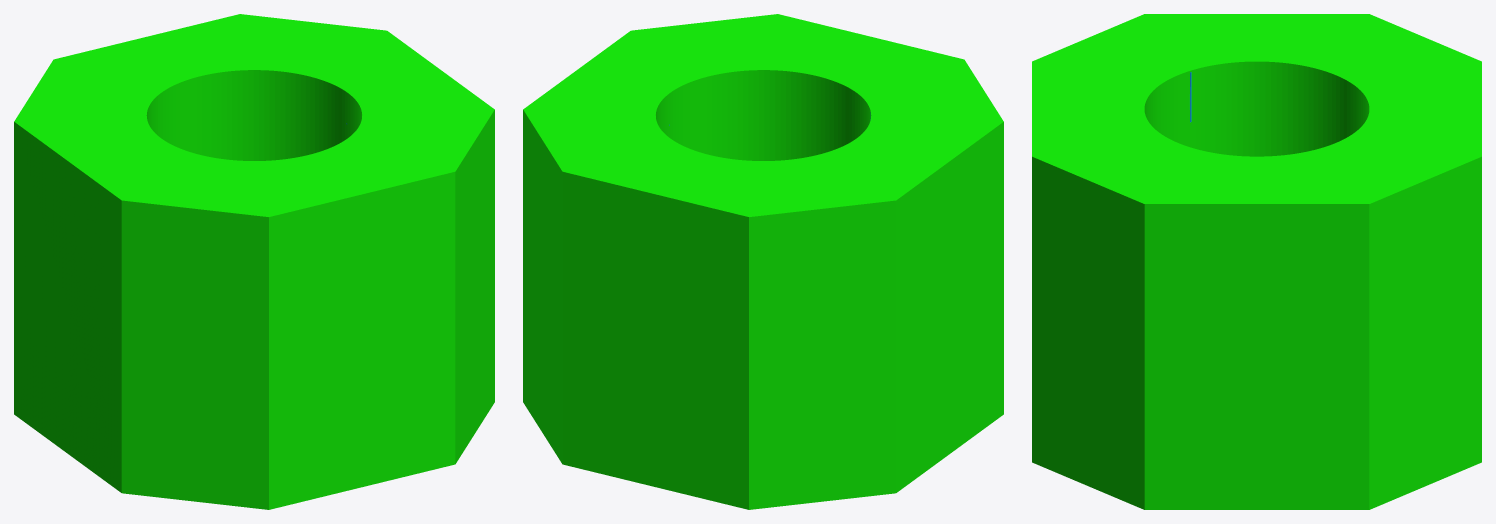
Rendered from nut.dae.
3 views of the same model, side by side, from view 1: azimuth 30°, elevation 25°; view 2: azimuth 150°, elevation 25°; view 3: azimuth 270°, elevation 25° (orthographic). The views are drawn at different scales.
Visible parts, largest first — view 1: Tuerca Cad; view 2: Tuerca Cad; view 3: Tuerca Cad.
Boxes of the visible parts, x1,y1,x2,y2 form: Tuerca Cad: [14, 14, 494, 509]; Tuerca Cad: [523, 14, 1003, 509]; Tuerca Cad: [1032, 14, 1481, 509].
Bounding box in the file's own units: 0.02 × 0.02 × 0.015.
